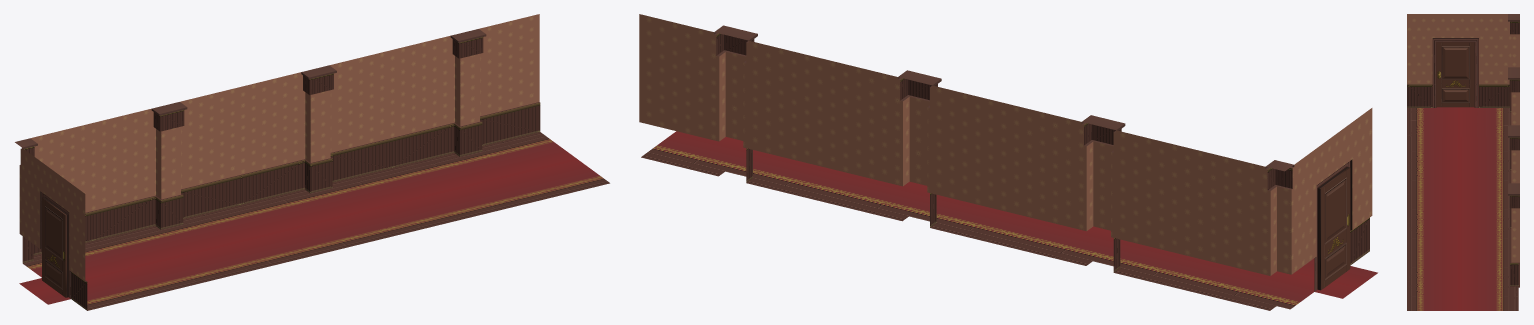
Rendered from hallway.glb.
3 views of the same model, side by side, from view 1: azimuth 30°, elevation 25°; view 2: azimuth 150°, elevation 25°; view 3: azimuth 270°, elevation 25° (orthographic). The views are drawn at different scales.
Parts seen in each view (by area): view 1: hall, door; view 2: hall, door; view 3: hall, door.
Boxes of the visible parts, x1,y1,x2,y2 form: hall: (15,14,609,310); door: (42,197,66,297); hall: (639,14,1377,310); door: (1320,167,1350,290); hall: (1407,14,1519,310); door: (1436,42,1474,107).
Size of the model in its own units: 29.24 by 6 by 6.59.
4 materials, 4 textured.
